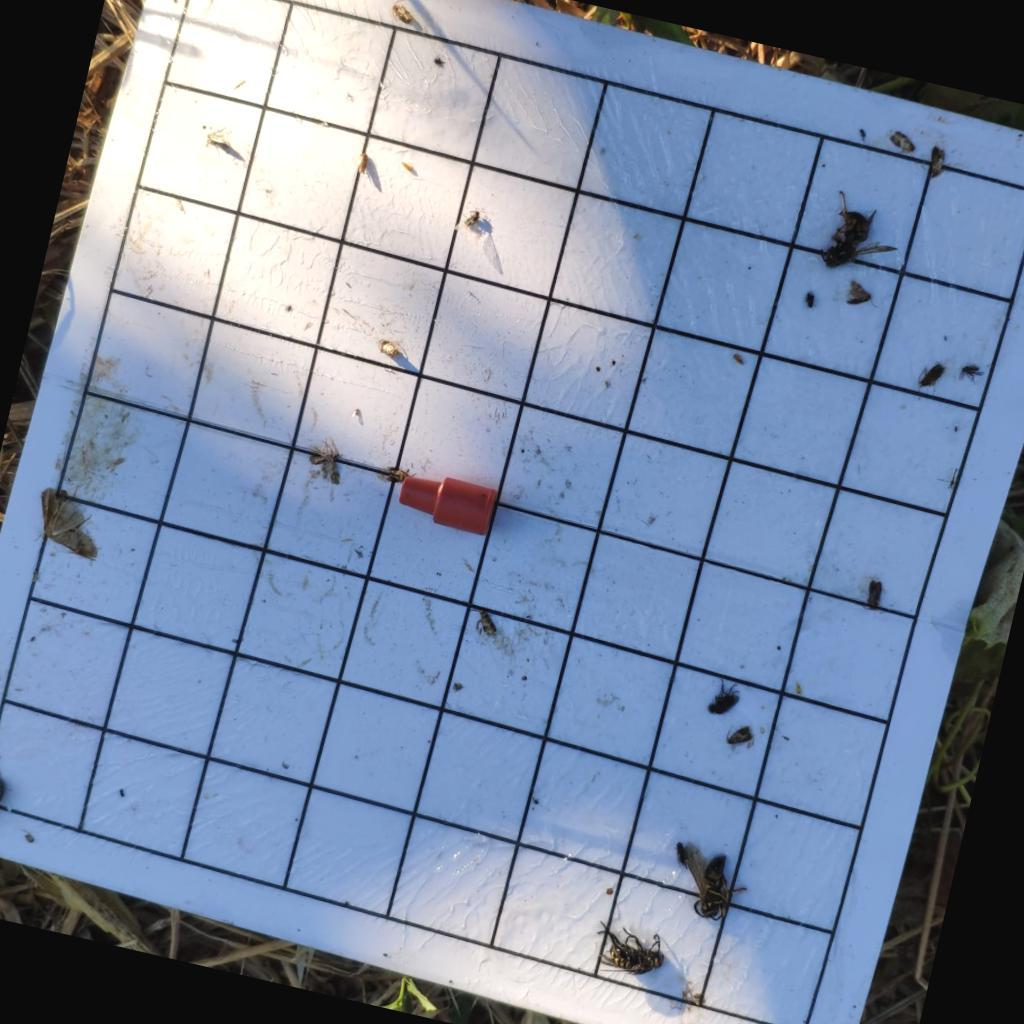grape_moth: (303, 431, 350, 485), (841, 277, 883, 312), (463, 603, 500, 640), (722, 719, 759, 756), (372, 333, 409, 362), (923, 142, 950, 180), (885, 127, 920, 156), (381, 462, 418, 487), (387, 2, 417, 31)
